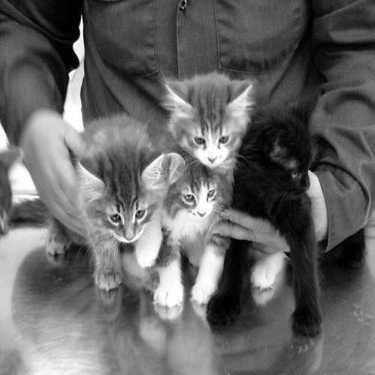cat: (201, 113, 324, 340), (23, 115, 159, 290), (156, 162, 228, 315), (161, 71, 253, 168), (1, 143, 23, 240)
